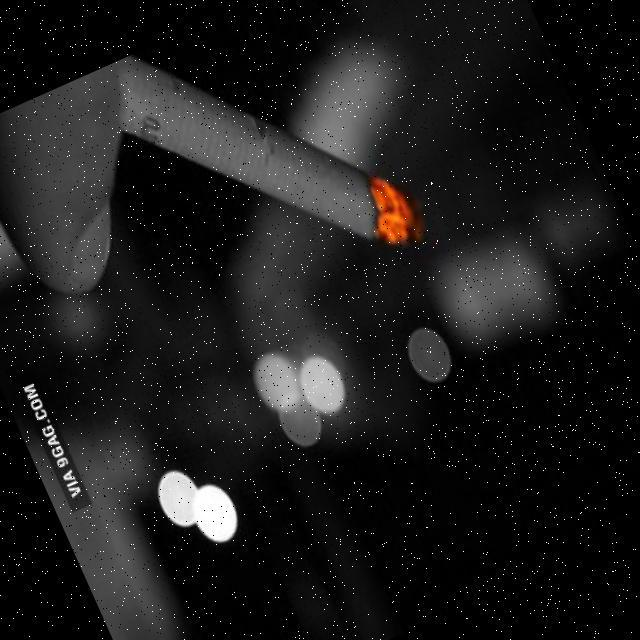cigarette: (122, 9, 436, 332)
